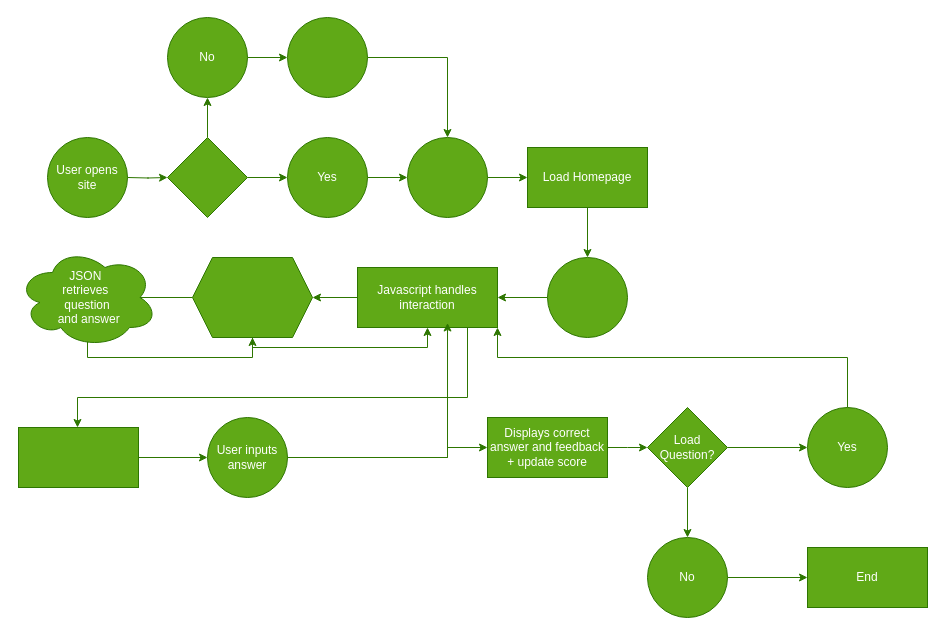
Some shapes in this 945 by 635 pixel diagram are drawn without their labels. Here are the shapes that lost their labels. From the top down, the centre of each, then its label:
At pixel 327 57: "create account".
At pixel 207 177: "Has account".
At pixel 447 177: "Login".
At pixel 252 297: "Flask endpoint recevies request and consults JSON".
At pixel 587 297: "Choose Language + Difficulty".
At pixel 78 457: "Displays phrase and answer choices".
